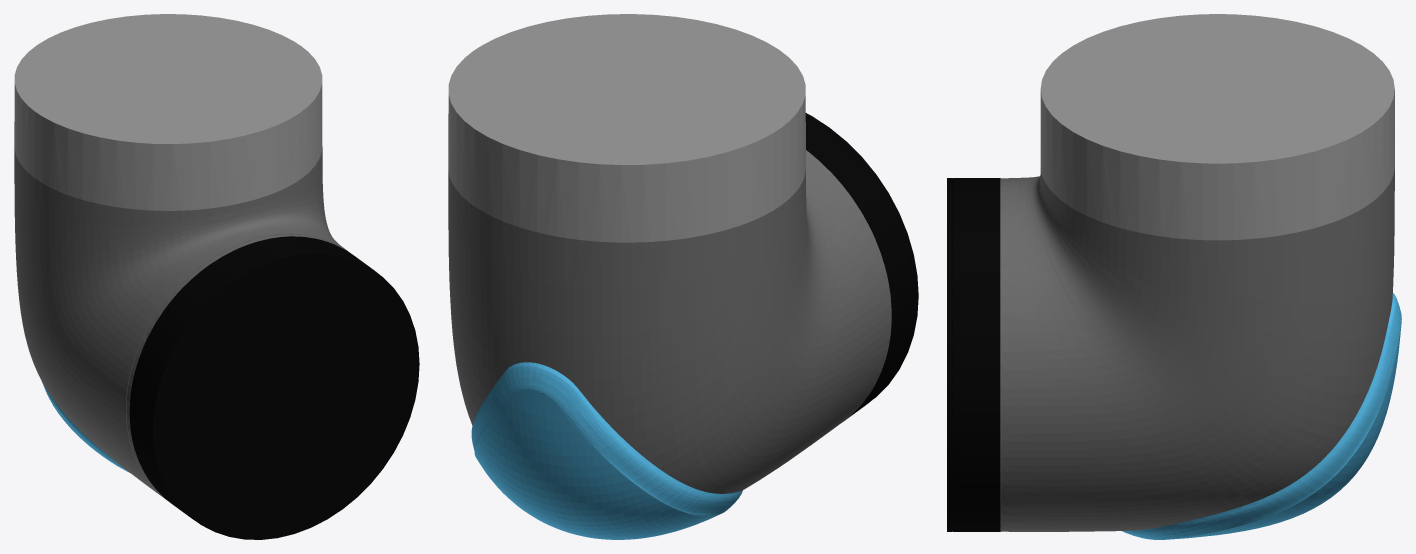
The picture shows the model from 3 angles, left to right: view 1: azimuth 30°, elevation 25°; view 2: azimuth 150°, elevation 25°; view 3: azimuth 270°, elevation 25°; orthographic projection. The views are drawn at different scales.
Parts seen in each view (by area): view 1: link_4; view 2: link_4; view 3: link_4.
Part boxes in pixels (bbox=[...]): link_4: bbox=[14, 14, 419, 539]; link_4: bbox=[448, 14, 918, 539]; link_4: bbox=[947, 14, 1401, 539].
Size of the model in its own units: 0.1 by 0.1284 by 0.1355.
